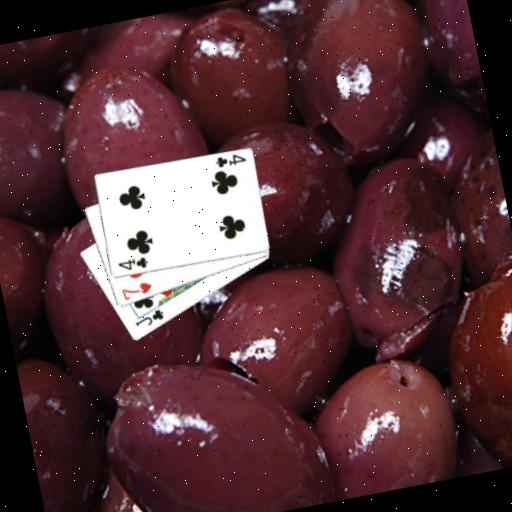4C: (211, 149, 248, 171), (114, 254, 150, 275)
7H: (118, 278, 156, 303)
JC: (130, 305, 167, 330)
